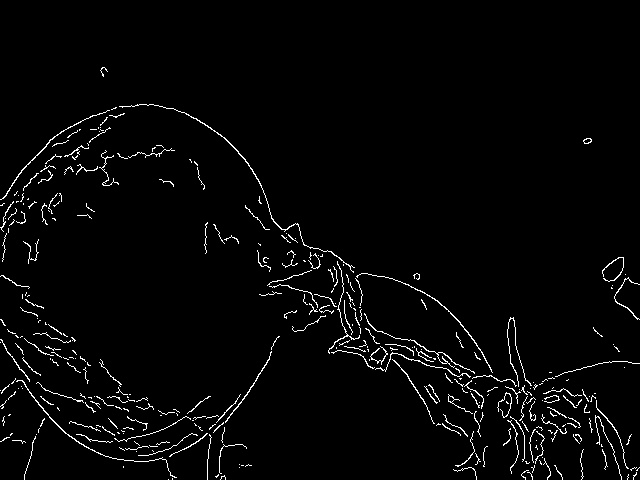red_onion: (4, 73, 361, 465), (198, 268, 547, 480)
